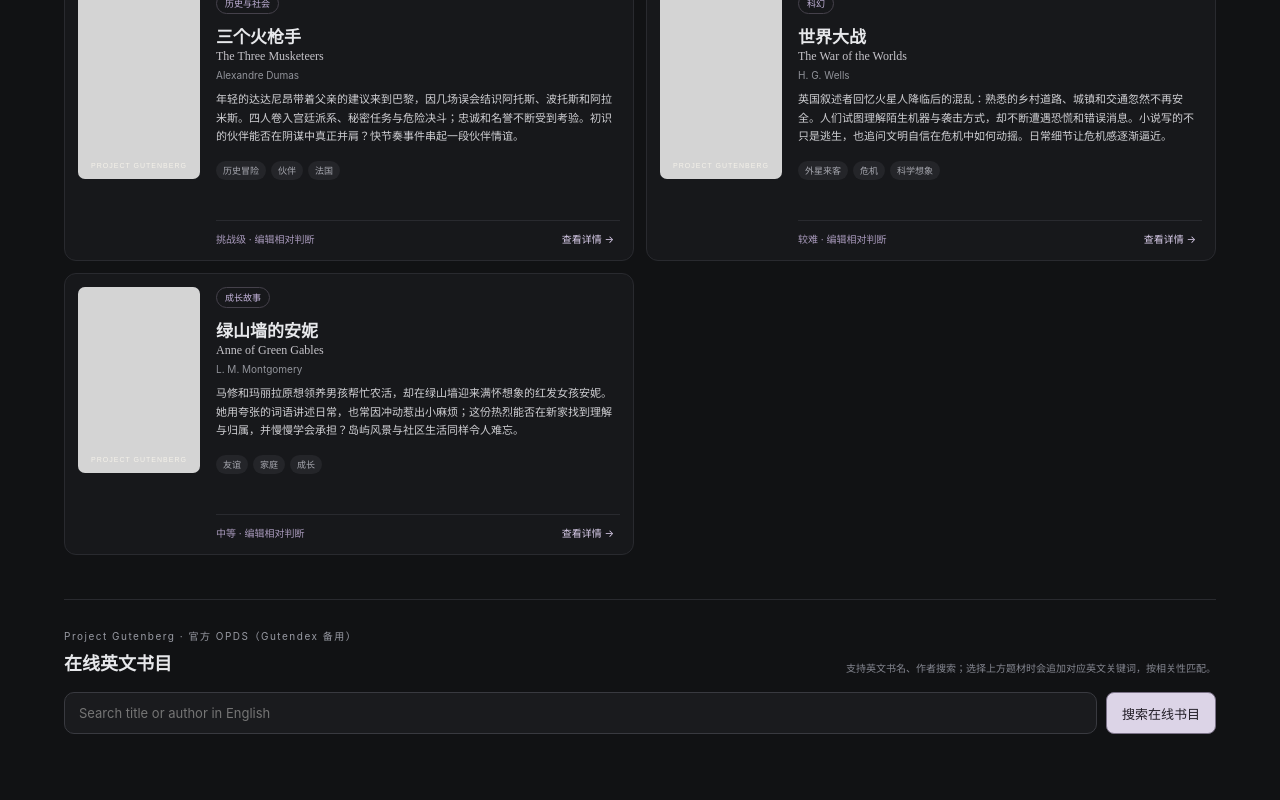
Test case: loads a cached Chinese introduction without regenerating
(page scrolled)
What coordinates should you click on to do the following:
click the button "搜索在线书目"
I would click on:
 (1161, 713)
Its box is [1106,692,1216,734].
(page scrolled)
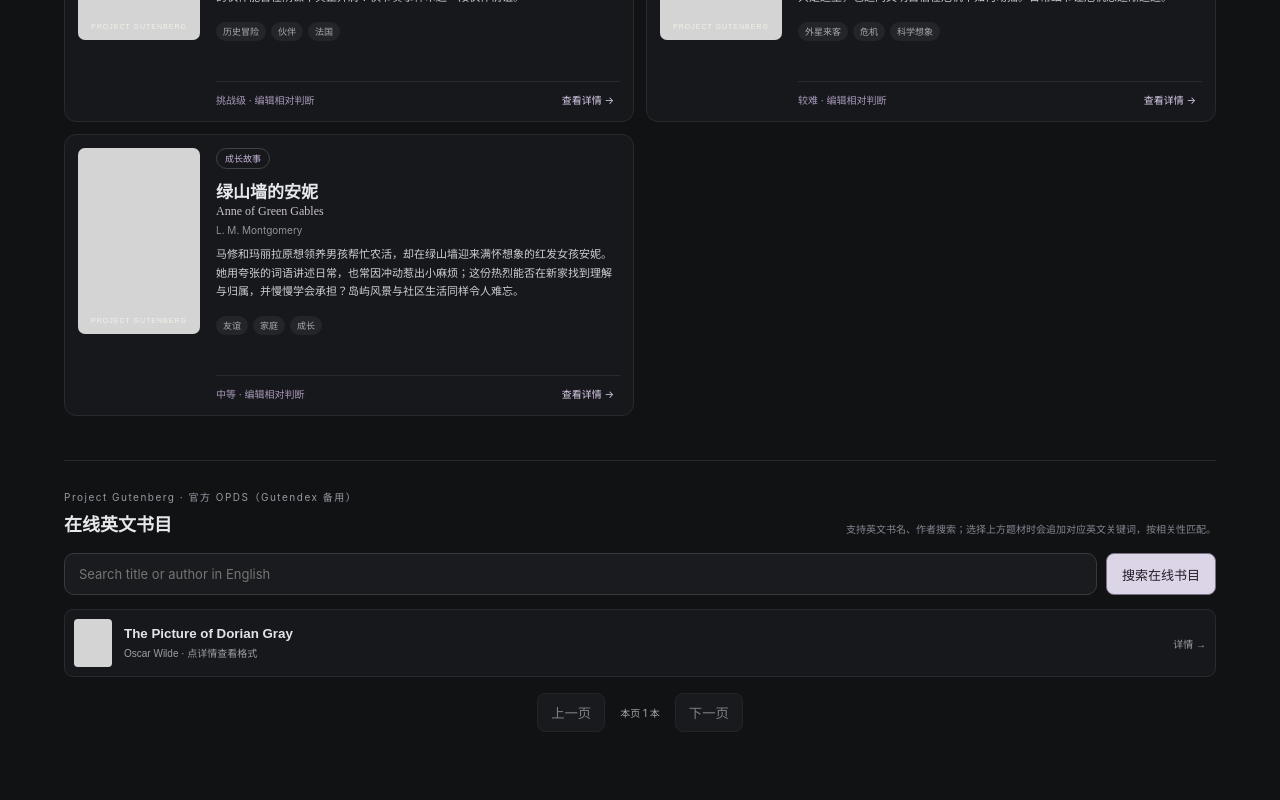
What coordinates should you click on to do the following:
click the button "T The Picture of Dorian Gray Oscar Wilde · 点详情查看格式 详情 →"
I would click on:
 (93, 643)
Its box is [64,609,1216,677].
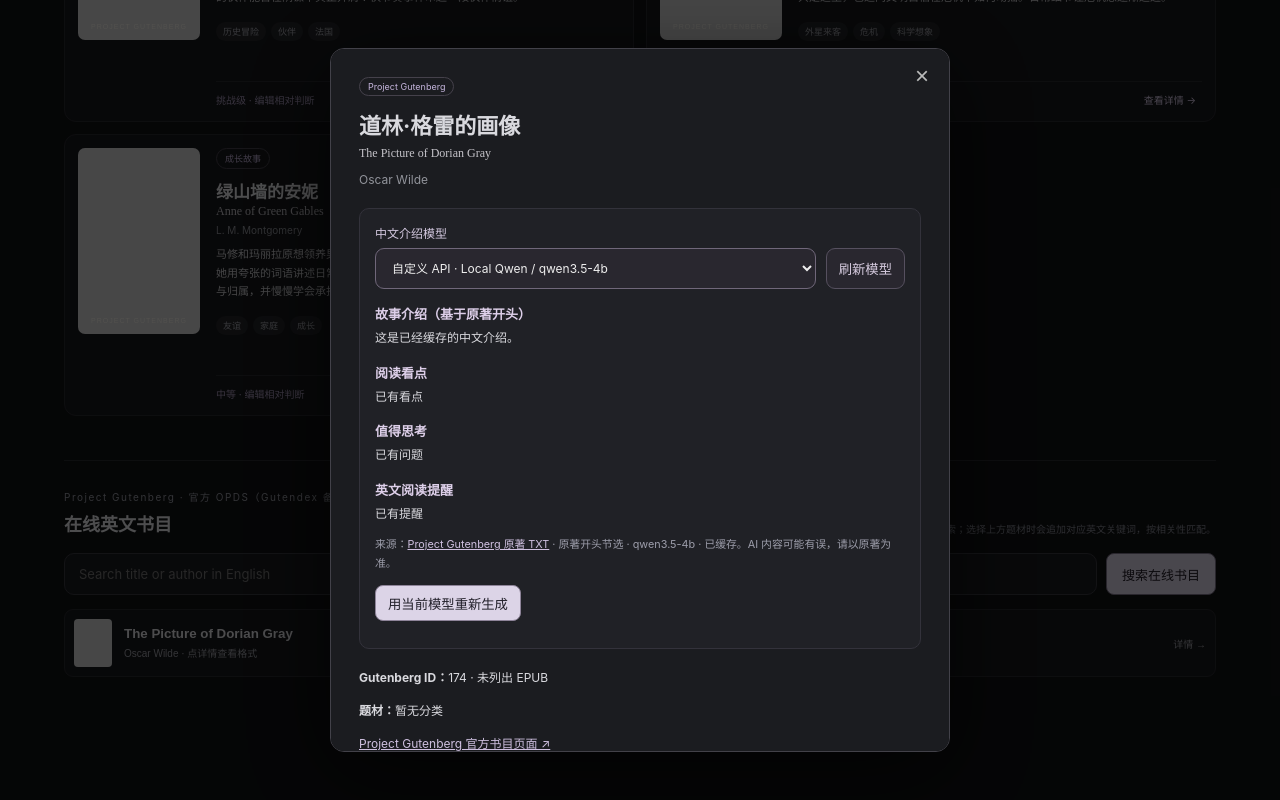
Check: the heading "道林·格雷的画像" is shown, box [359,113,520,139]
Check: the text "已缓存" is shown, box [704,538,737,551]
